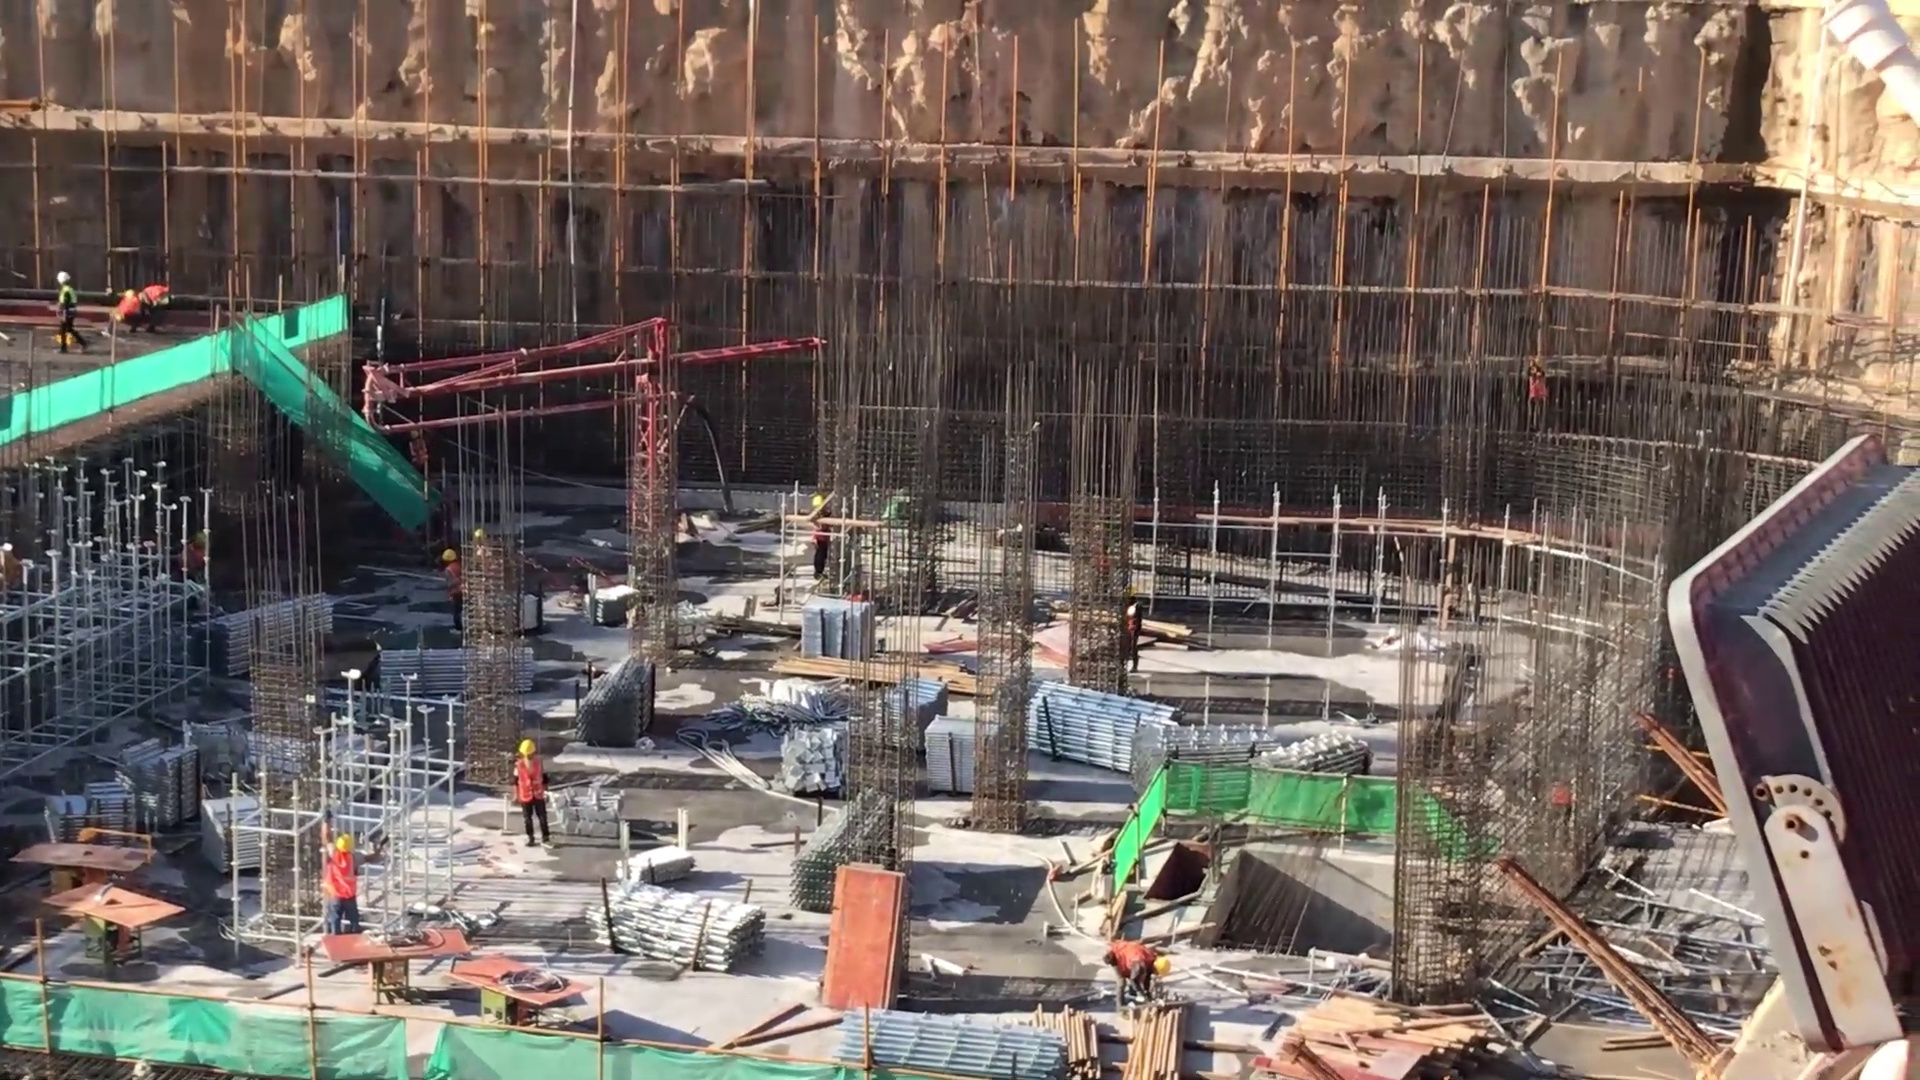board: (815, 855, 913, 1016), (1245, 1038, 1467, 1077)
cutter: (32, 879, 184, 971), (318, 925, 474, 1010), (442, 957, 613, 1029), (12, 834, 153, 900)
helmet: (336, 829, 358, 861), (515, 734, 541, 761), (808, 490, 831, 514), (1154, 950, 1173, 976), (441, 545, 458, 571), (54, 270, 72, 284), (409, 426, 423, 438)
person: (1093, 928, 1169, 1023), (34, 253, 89, 372), (510, 737, 559, 853), (799, 482, 845, 602), (325, 824, 362, 953), (1108, 597, 1151, 674), (397, 416, 438, 495), (441, 541, 471, 641), (134, 279, 177, 332), (110, 283, 141, 346)
scaffold: (600, 883, 768, 980), (1031, 680, 1185, 785), (835, 1007, 1049, 1080), (191, 590, 340, 685), (1143, 719, 1275, 825), (1245, 737, 1371, 835), (375, 639, 539, 706), (575, 659, 671, 755), (42, 781, 145, 861), (882, 671, 964, 764), (132, 735, 201, 835)
vest: (1105, 937, 1155, 999), (511, 756, 551, 807), (329, 849, 360, 907), (444, 562, 466, 602), (56, 285, 77, 323), (406, 437, 430, 468), (121, 295, 140, 322)
